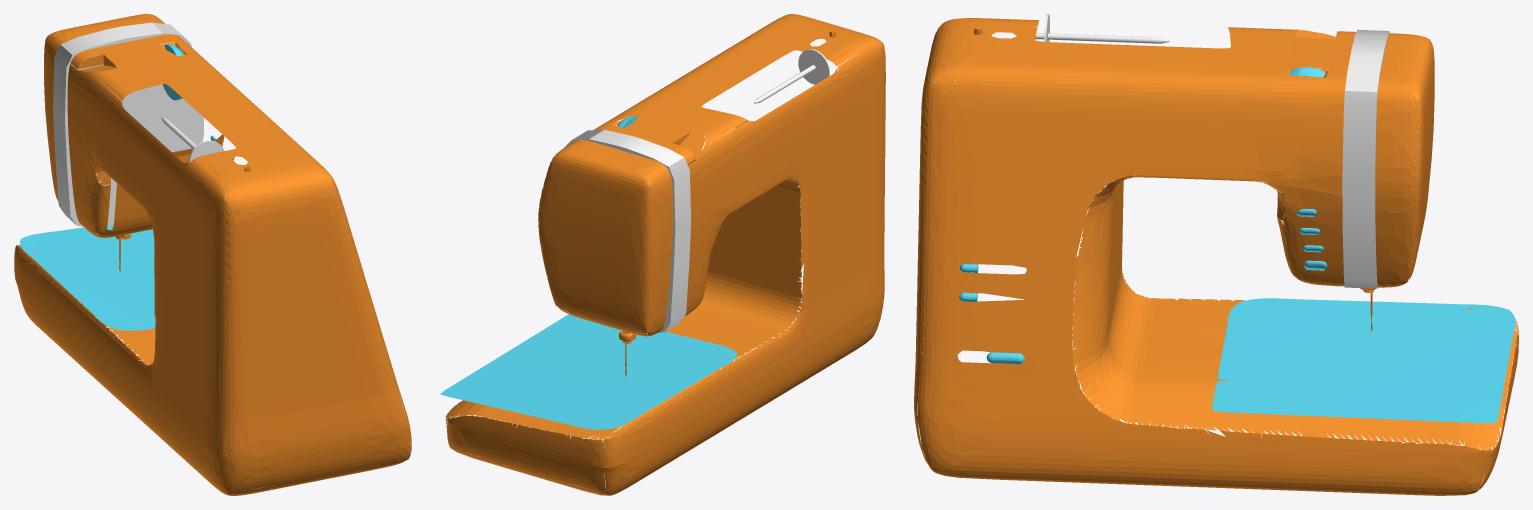
The model's file is 7d4ead7b-b74a-4605-8de9-5ec11612e54b.glb.
3 renders of one model, left to right at view 1: azimuth 30°, elevation 25°; view 2: azimuth 150°, elevation 25°; view 3: azimuth 270°, elevation 25°, orthographic. The views are drawn at different scales.
Visible parts, largest first — view 1: object 1, object 10, Box20180; view 2: object 1, object 10, Box20180, Cylinder003; view 3: object 1, object 10, Box20180, Cylinder004.
Part boxes in pixels (x1,y1,x2,y2): object 1: (14,14,411,495); object 10: (20,225,155,330); Box20180: (53,22,203,226); object 1: (445,14,885,495); object 10: (440,314,737,429); Box20180: (564,129,690,333); Cylinder003: (798,49,829,84); object 1: (914,18,1518,495); object 10: (1212,298,1515,423); Box20180: (1342,29,1389,288); Cylinder004: (1035,33,1169,43).
Bounding box in the file's own units: 14176 × 19989 × 28800.
